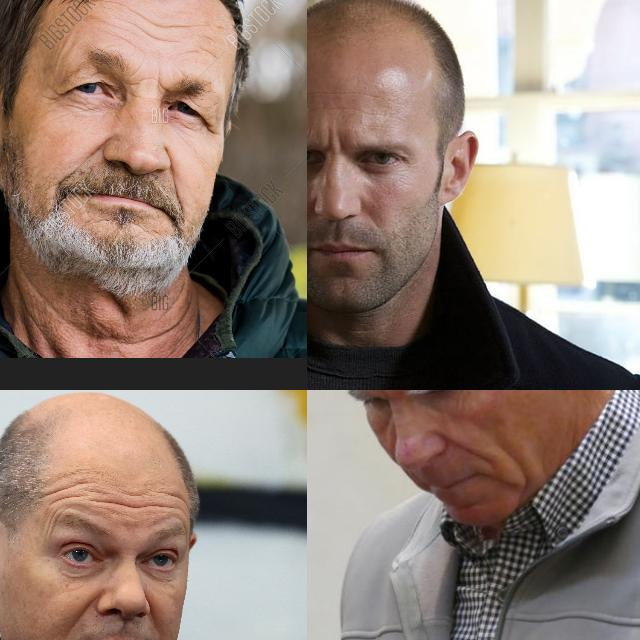crows_feet: (40, 82, 66, 106)
forehead: (100, 490, 167, 516), (142, 14, 182, 50), (45, 480, 91, 502), (308, 86, 366, 100), (198, 32, 222, 64), (170, 488, 188, 522), (106, 0, 136, 18), (352, 105, 388, 118), (42, 510, 60, 534), (111, 29, 133, 46)
frown_line: (323, 128, 347, 162), (153, 70, 167, 96), (127, 74, 141, 98)
gummy_smile: (63, 140, 103, 177), (440, 433, 490, 461), (74, 590, 100, 632), (168, 165, 186, 208)
masseter: (506, 447, 538, 481)
